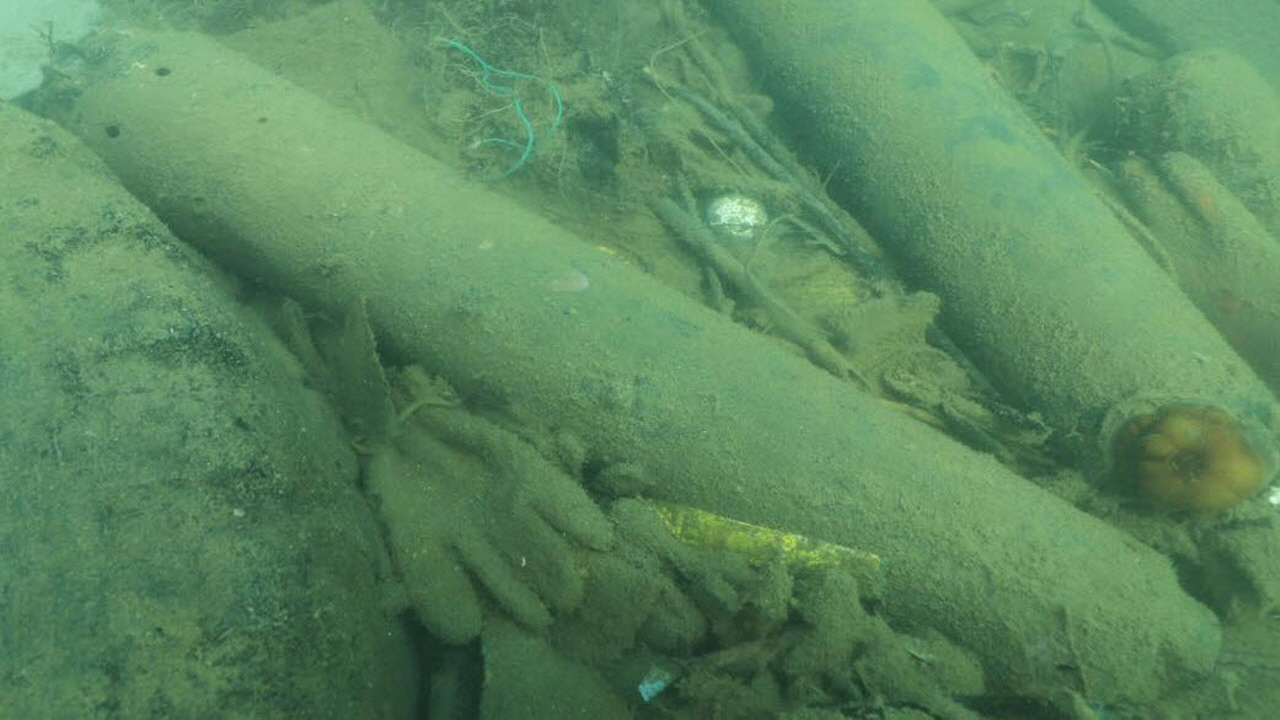eel fish trap: (32, 23, 1222, 720), (706, 1, 1280, 515)
